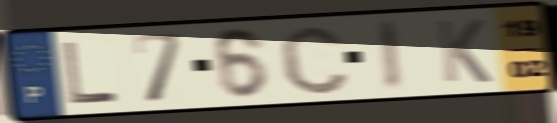6: (213, 25, 272, 101)
7: (132, 30, 183, 105)
C: (276, 22, 353, 97)
I: (373, 18, 405, 94)
K: (434, 17, 495, 85)
L: (60, 39, 122, 106)
